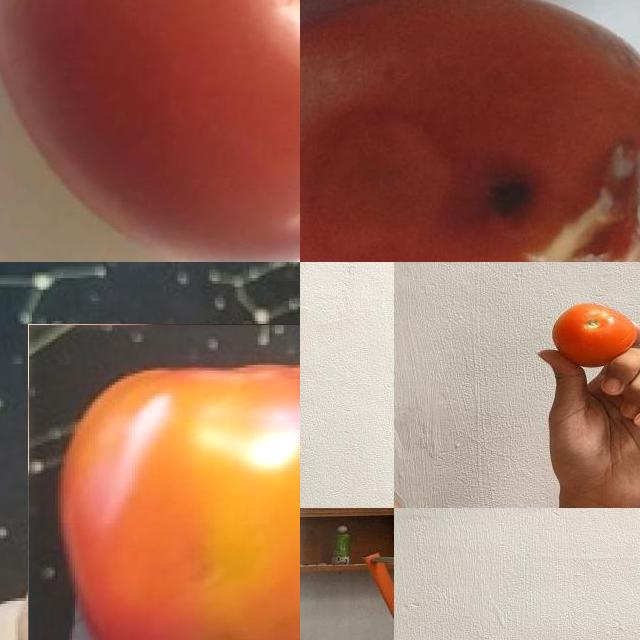1: (300, 0, 640, 262)
Fresh Tomato: (28, 324, 300, 640), (0, 0, 300, 262)
